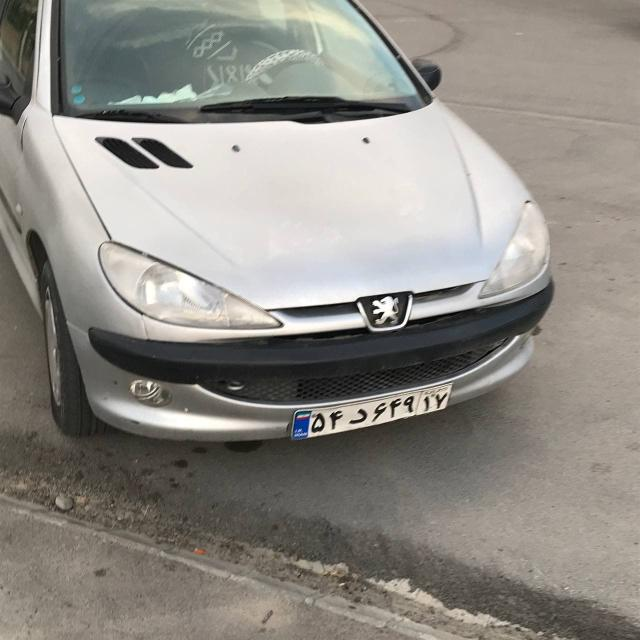Plates: (286, 380, 458, 440)
